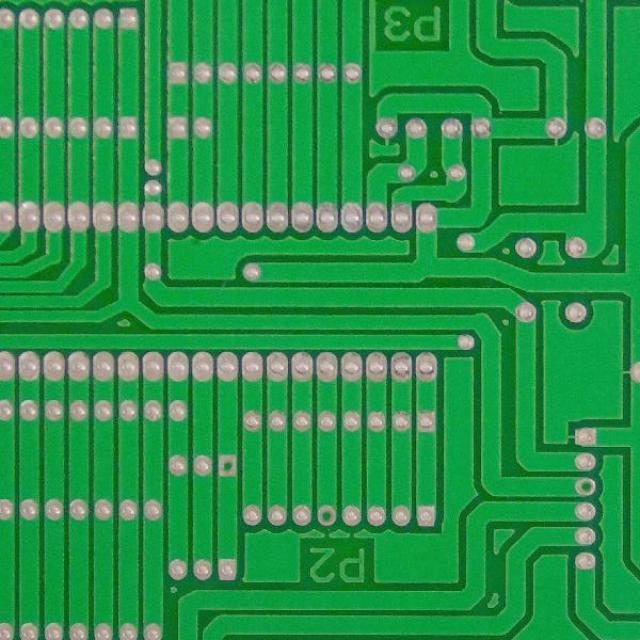Missing_Hole: (215, 451, 238, 479), (315, 502, 337, 527), (572, 477, 598, 495)
